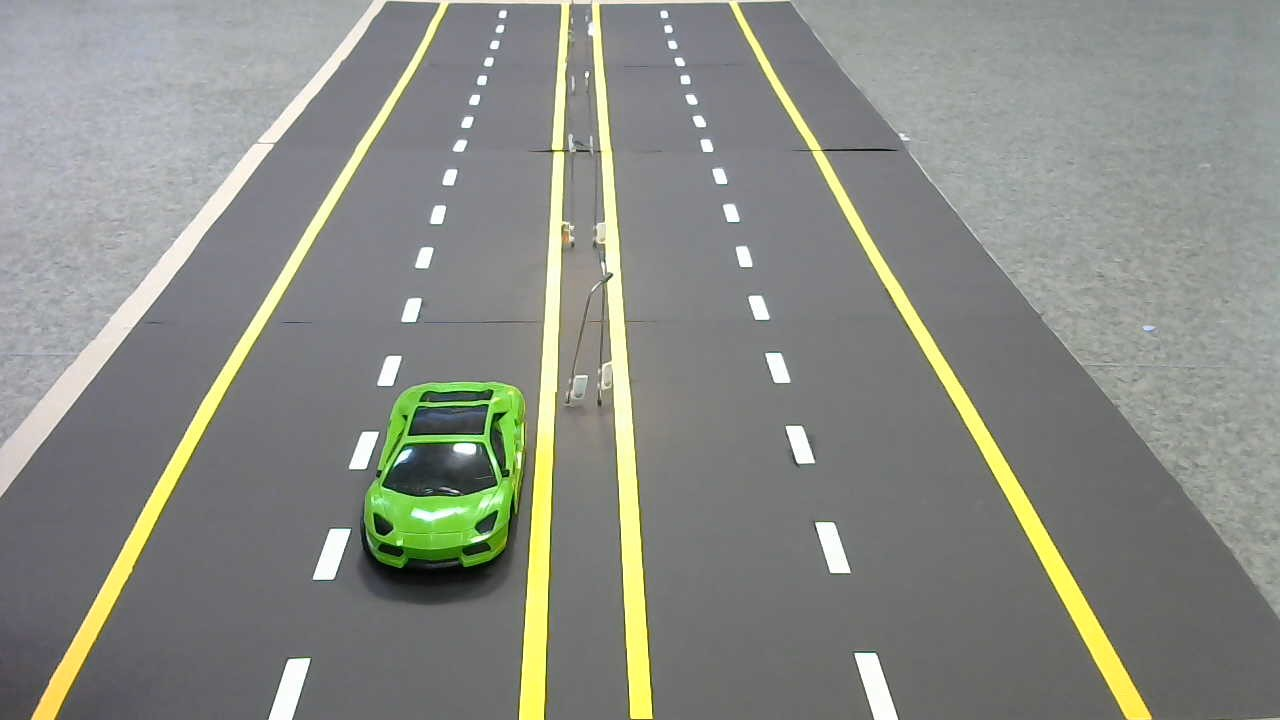front_car: (358, 372, 529, 584)
